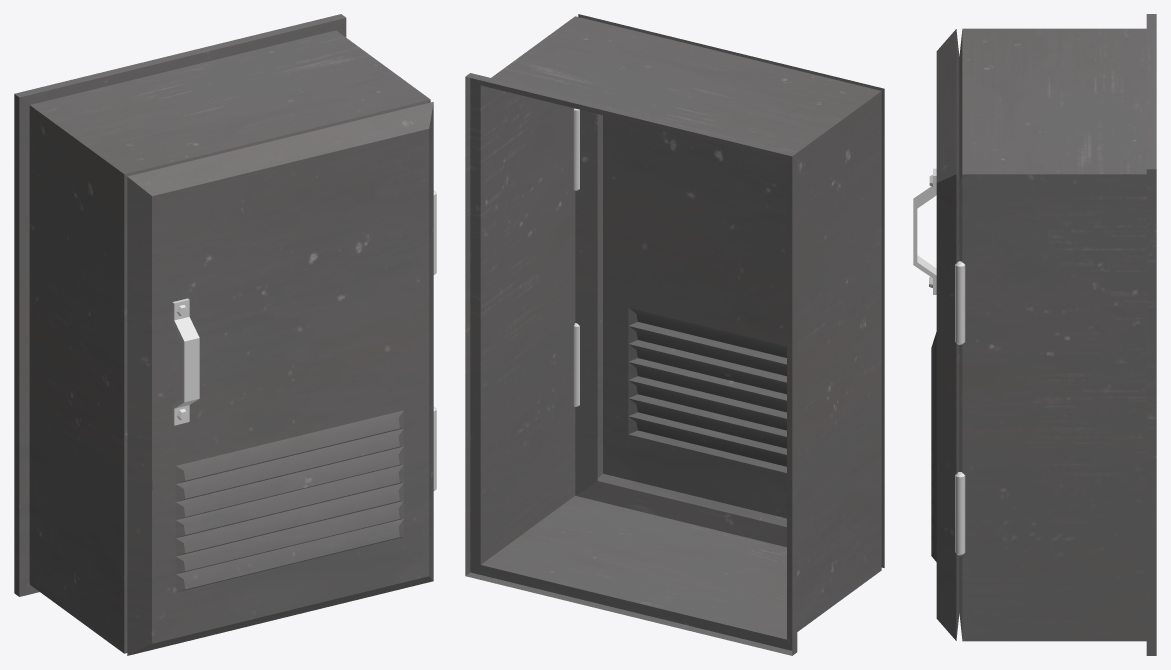
Rendered from KB3D_CBP_FuseBox_B.fbx.
The picture shows the model from 3 angles, left to right: view 1: azimuth 30°, elevation 25°; view 2: azimuth 150°, elevation 25°; view 3: azimuth 270°, elevation 25°; orthographic projection. The views are drawn at different scales.
Parts seen in each view (by area): view 1: KB3D_CBP_FuseBox_B_Main; view 2: KB3D_CBP_FuseBox_B_Main; view 3: KB3D_CBP_FuseBox_B_Main.
Boxes of the visible parts, bbox=[...] form: KB3D_CBP_FuseBox_B_Main: bbox=[14, 14, 436, 655]; KB3D_CBP_FuseBox_B_Main: bbox=[465, 14, 884, 655]; KB3D_CBP_FuseBox_B_Main: bbox=[913, 14, 1156, 655].
Size of the model in its own units: 63.39 by 92.52 by 41.94.
